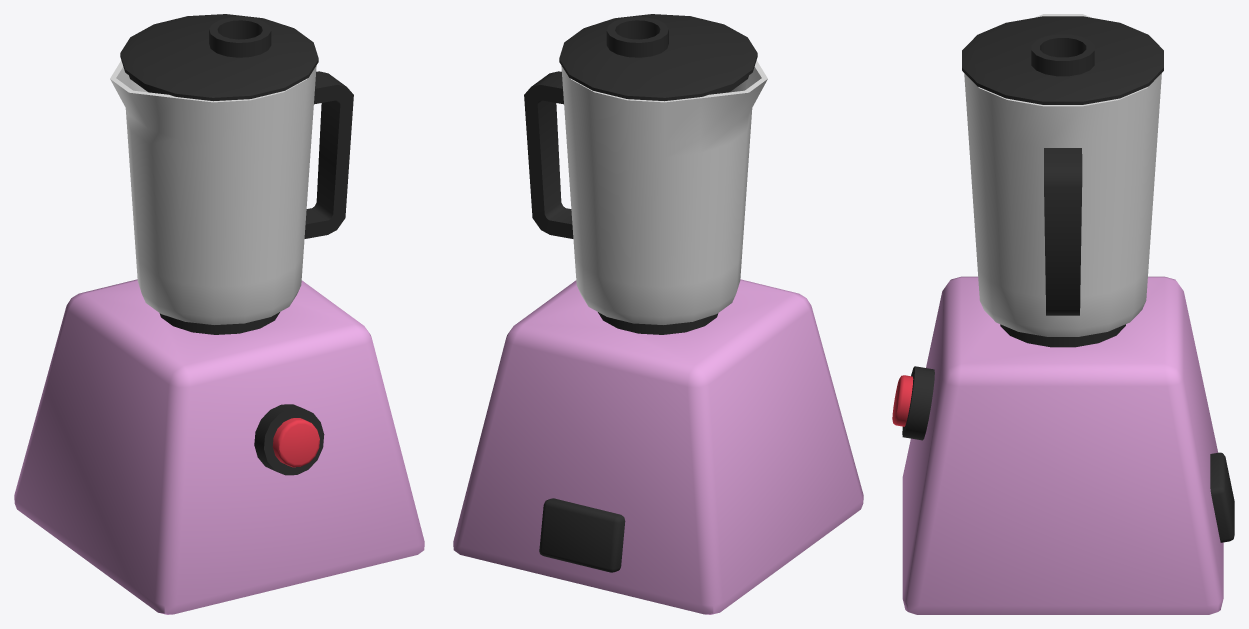
The model's file is blender.fbx.
3 views of the same model, side by side, from view 1: azimuth 30°, elevation 25°; view 2: azimuth 150°, elevation 25°; view 3: azimuth 270°, elevation 25° (orthographic). The views are drawn at different scales.
Parts seen in each view (by area): view 1: blender_base, blender, blender_cover, button_base, button; view 2: blender_base, blender, blender_cover, cabel_base; view 3: blender_base, blender, blender_cover, cabel_base, button_base, button.
Part boxes in pixels (<box>): blender_base: <box>14,279,424,614</box>; blender: <box>110,60,353,334</box>; blender_cover: <box>120,14,318,101</box>; button_base: <box>254,404,324,475</box>; button: <box>272,418,319,467</box>; blender_base: <box>453,279,863,614</box>; blender: <box>524,60,767,334</box>; blender_cover: <box>559,14,757,101</box>; cabel_base: <box>539,498,625,572</box>; blender_base: <box>902,276,1223,614</box>; blender: <box>964,14,1161,347</box>; blender_cover: <box>962,16,1163,104</box>; cabel_base: <box>1210,452,1234,542</box>; button_base: <box>902,366,934,440</box>; button: <box>892,375,913,426</box>.
Bounding box in the file's own units: 0.1885 × 0.334 × 0.201.
